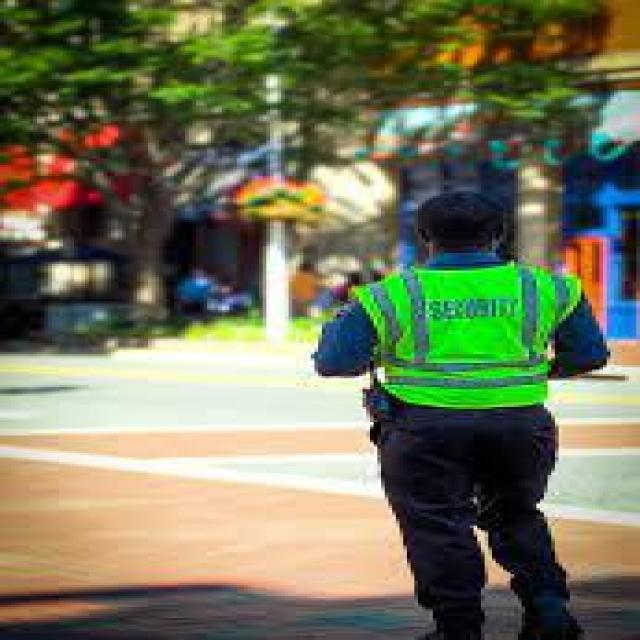safety_helmet: (354, 251, 586, 411)
